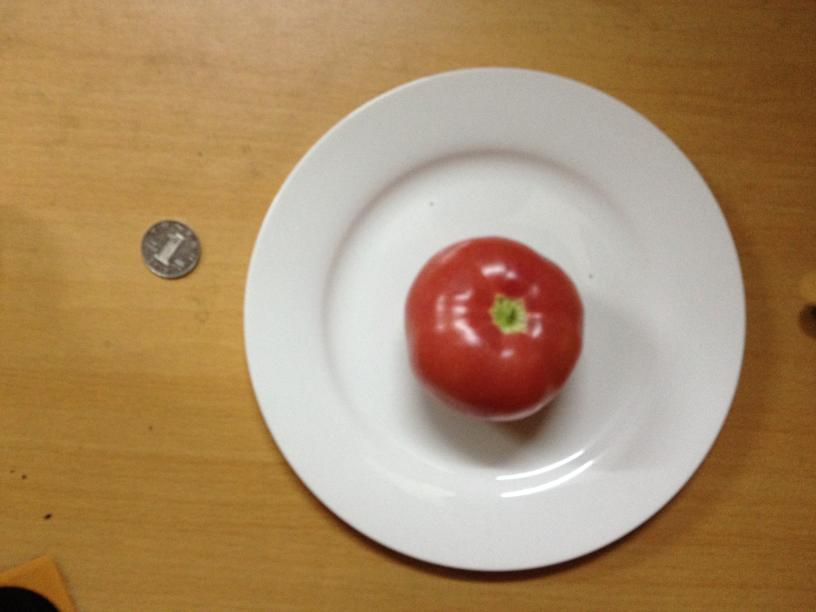coin: (140, 220, 201, 282)
tomato: (401, 239, 584, 420)
